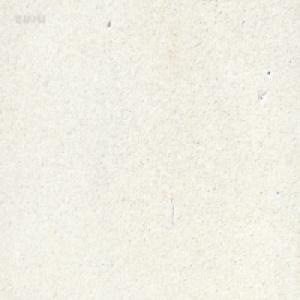Wrench: (169, 0, 175, 5)
